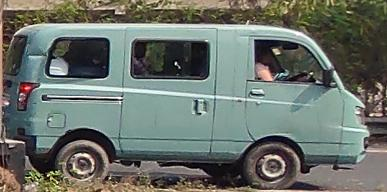Auto: (5, 21, 369, 190)
